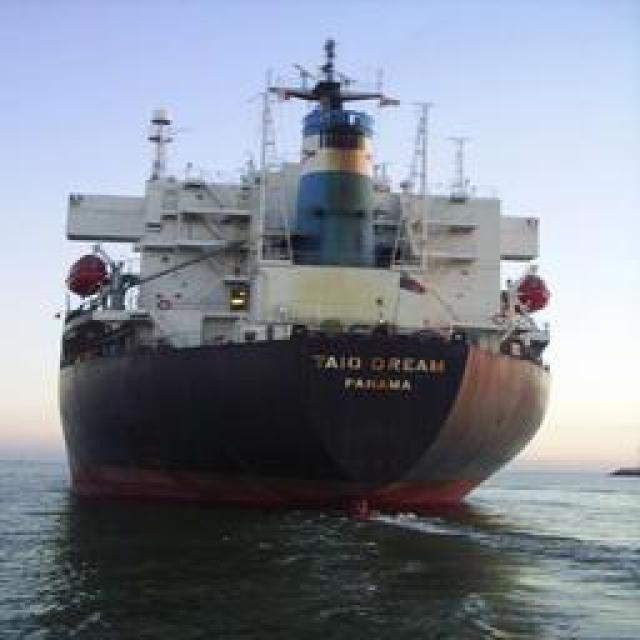Ship: (62, 30, 565, 513)
